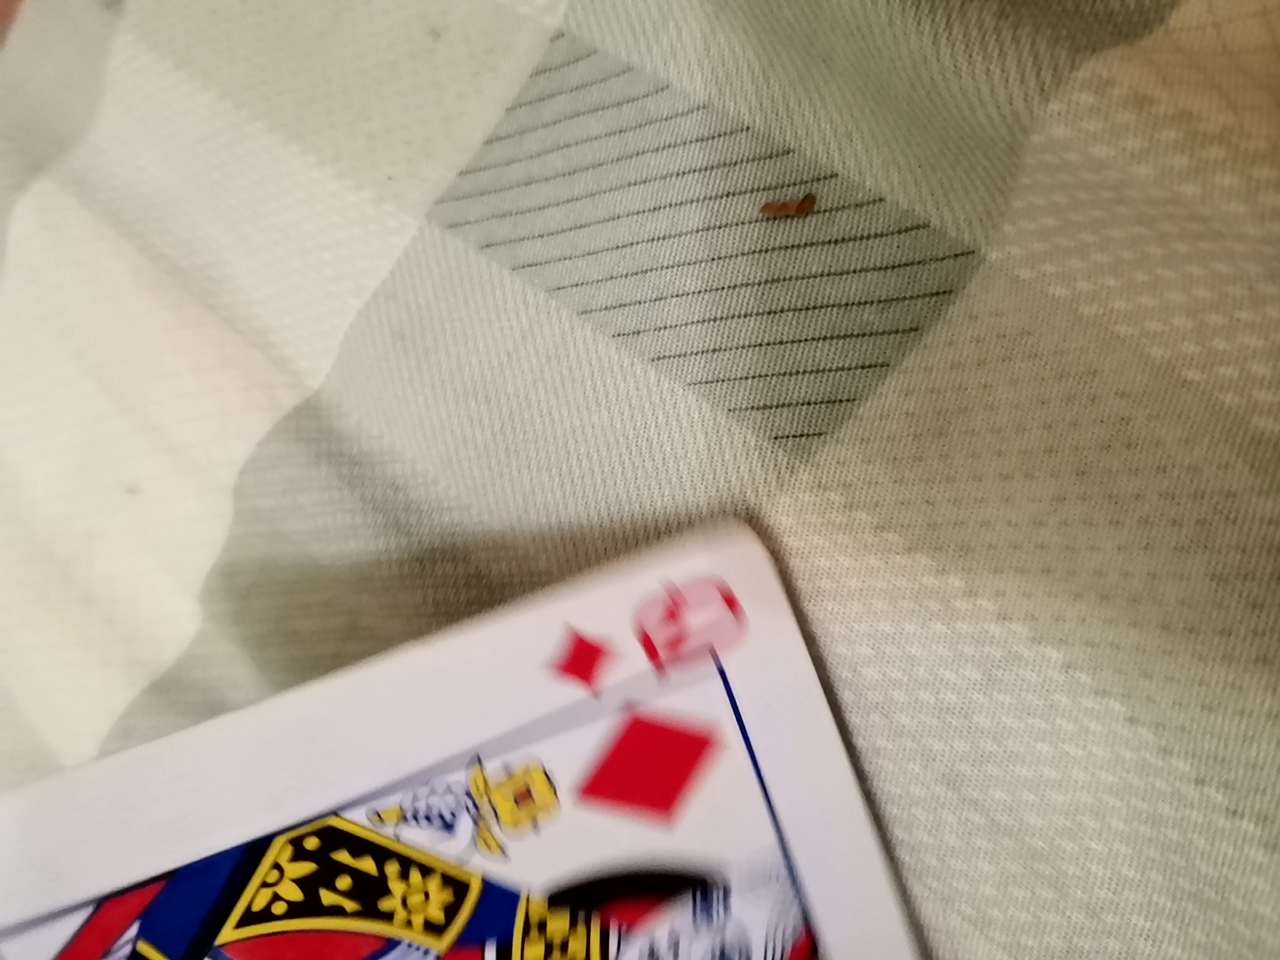fk q: (8, 537, 982, 956)
